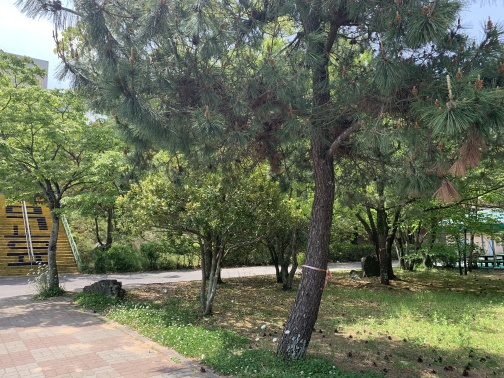Ara Hall: (425, 199, 504, 270)
College Of Education: (2, 48, 80, 118)
